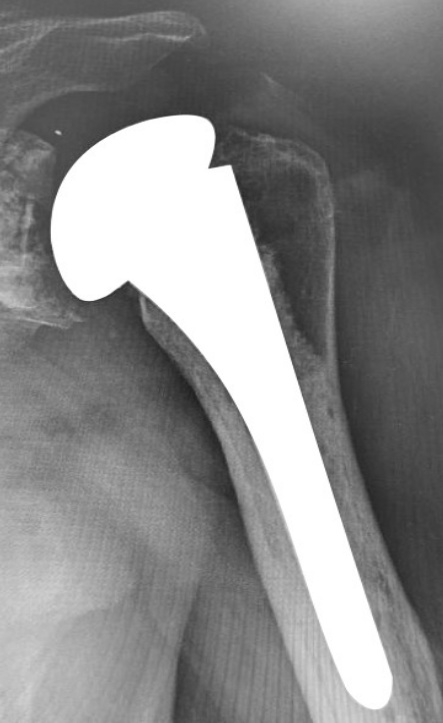Shoulder - Anotomical - Stryker: (34, 106, 280, 310)
